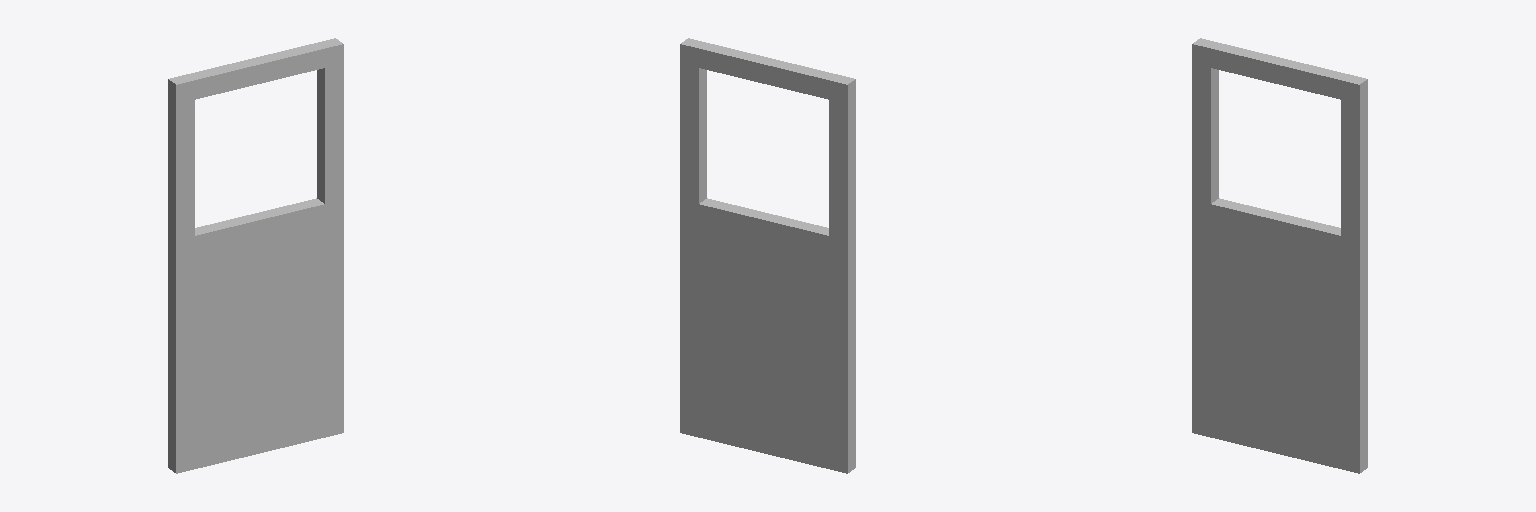
Rendered from left_door.obj.
3 renders of one model, left to right at view 1: azimuth 30°, elevation 25°; view 2: azimuth 150°, elevation 25°; view 3: azimuth 330°, elevation 25°, orthographic.
Parts seen in each view (by area): view 1: LeftDoor; view 2: LeftDoor; view 3: LeftDoor.
Boxes of the visible parts, x1=… form: LeftDoor: x1=168, y1=38, x2=343, y2=473; LeftDoor: x1=680, y1=38, x2=855, y2=473; LeftDoor: x1=1192, y1=38, x2=1367, y2=473.
Size of the model in its own units: 9.9 by 22 by 0.825.